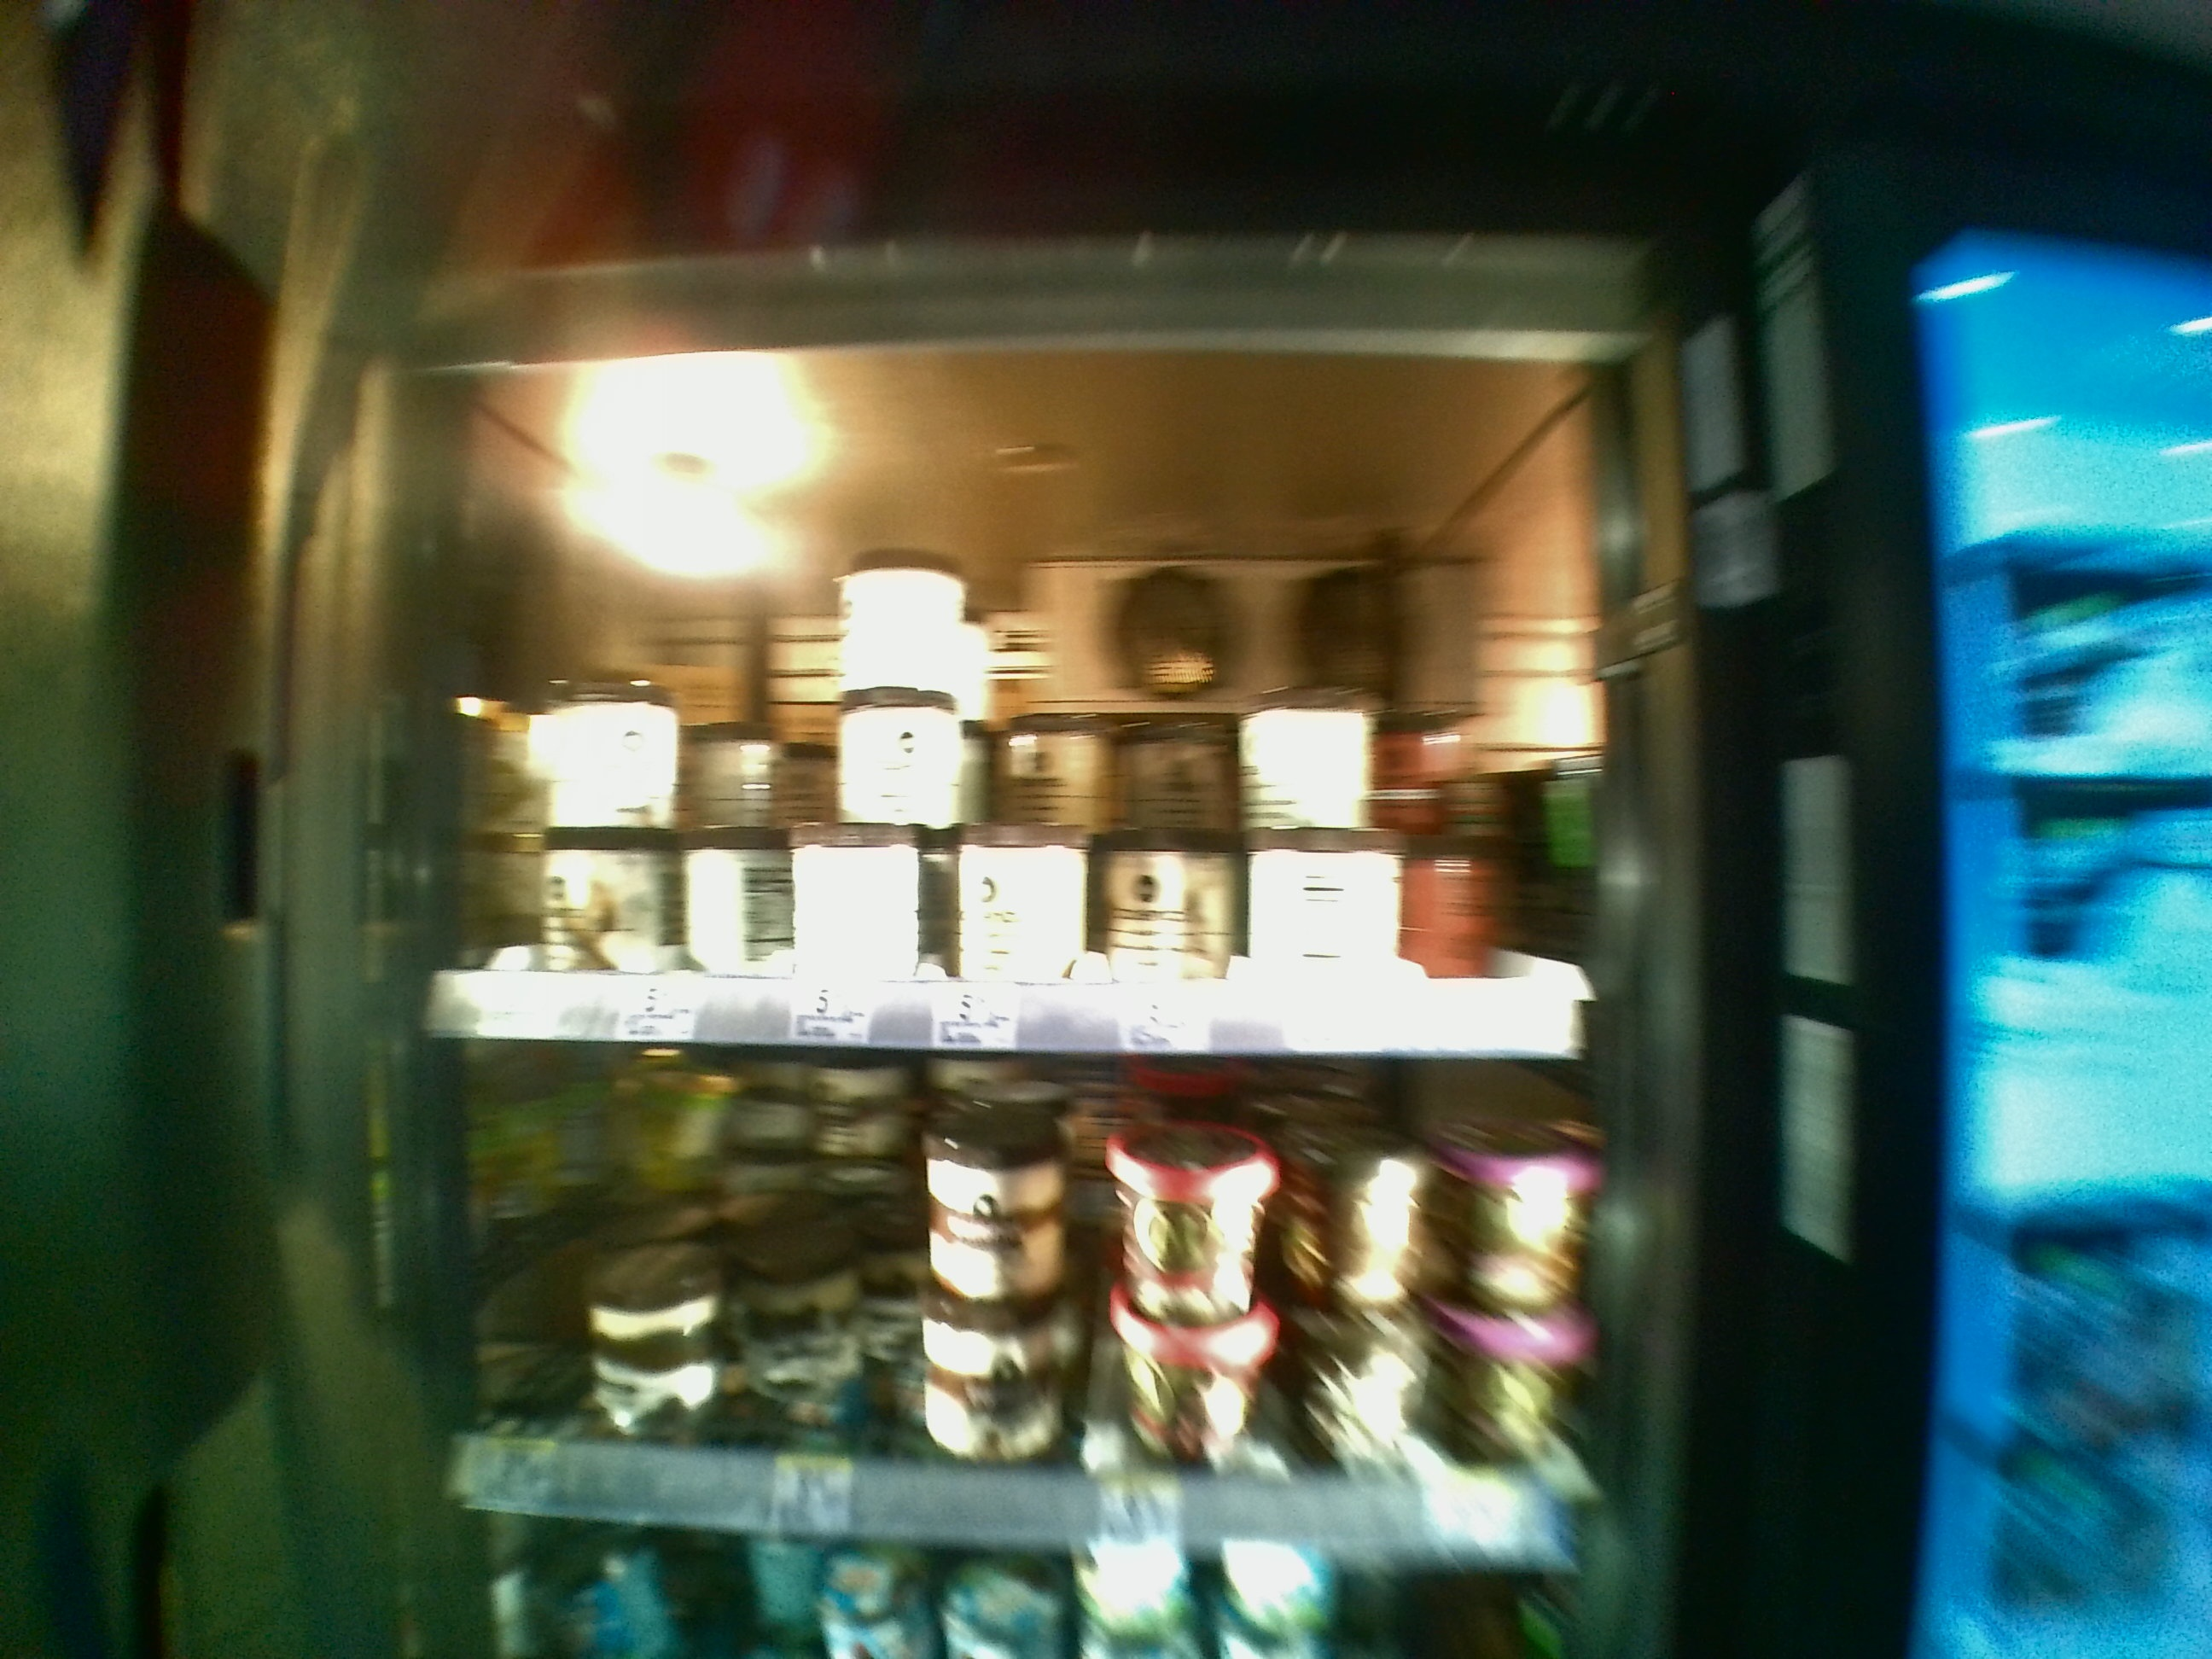shelf: (425, 403, 1588, 1058), (420, 1075, 1594, 1577)
